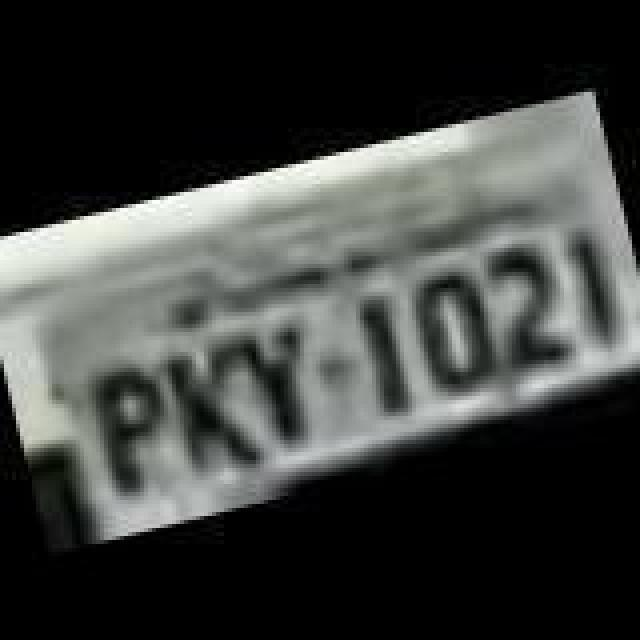1: (348, 284, 420, 420), (560, 222, 624, 354)
2: (476, 234, 580, 374)
K: (158, 336, 258, 480)
O: (410, 266, 502, 398)
P: (88, 360, 184, 504)
Y: (238, 314, 330, 454)
